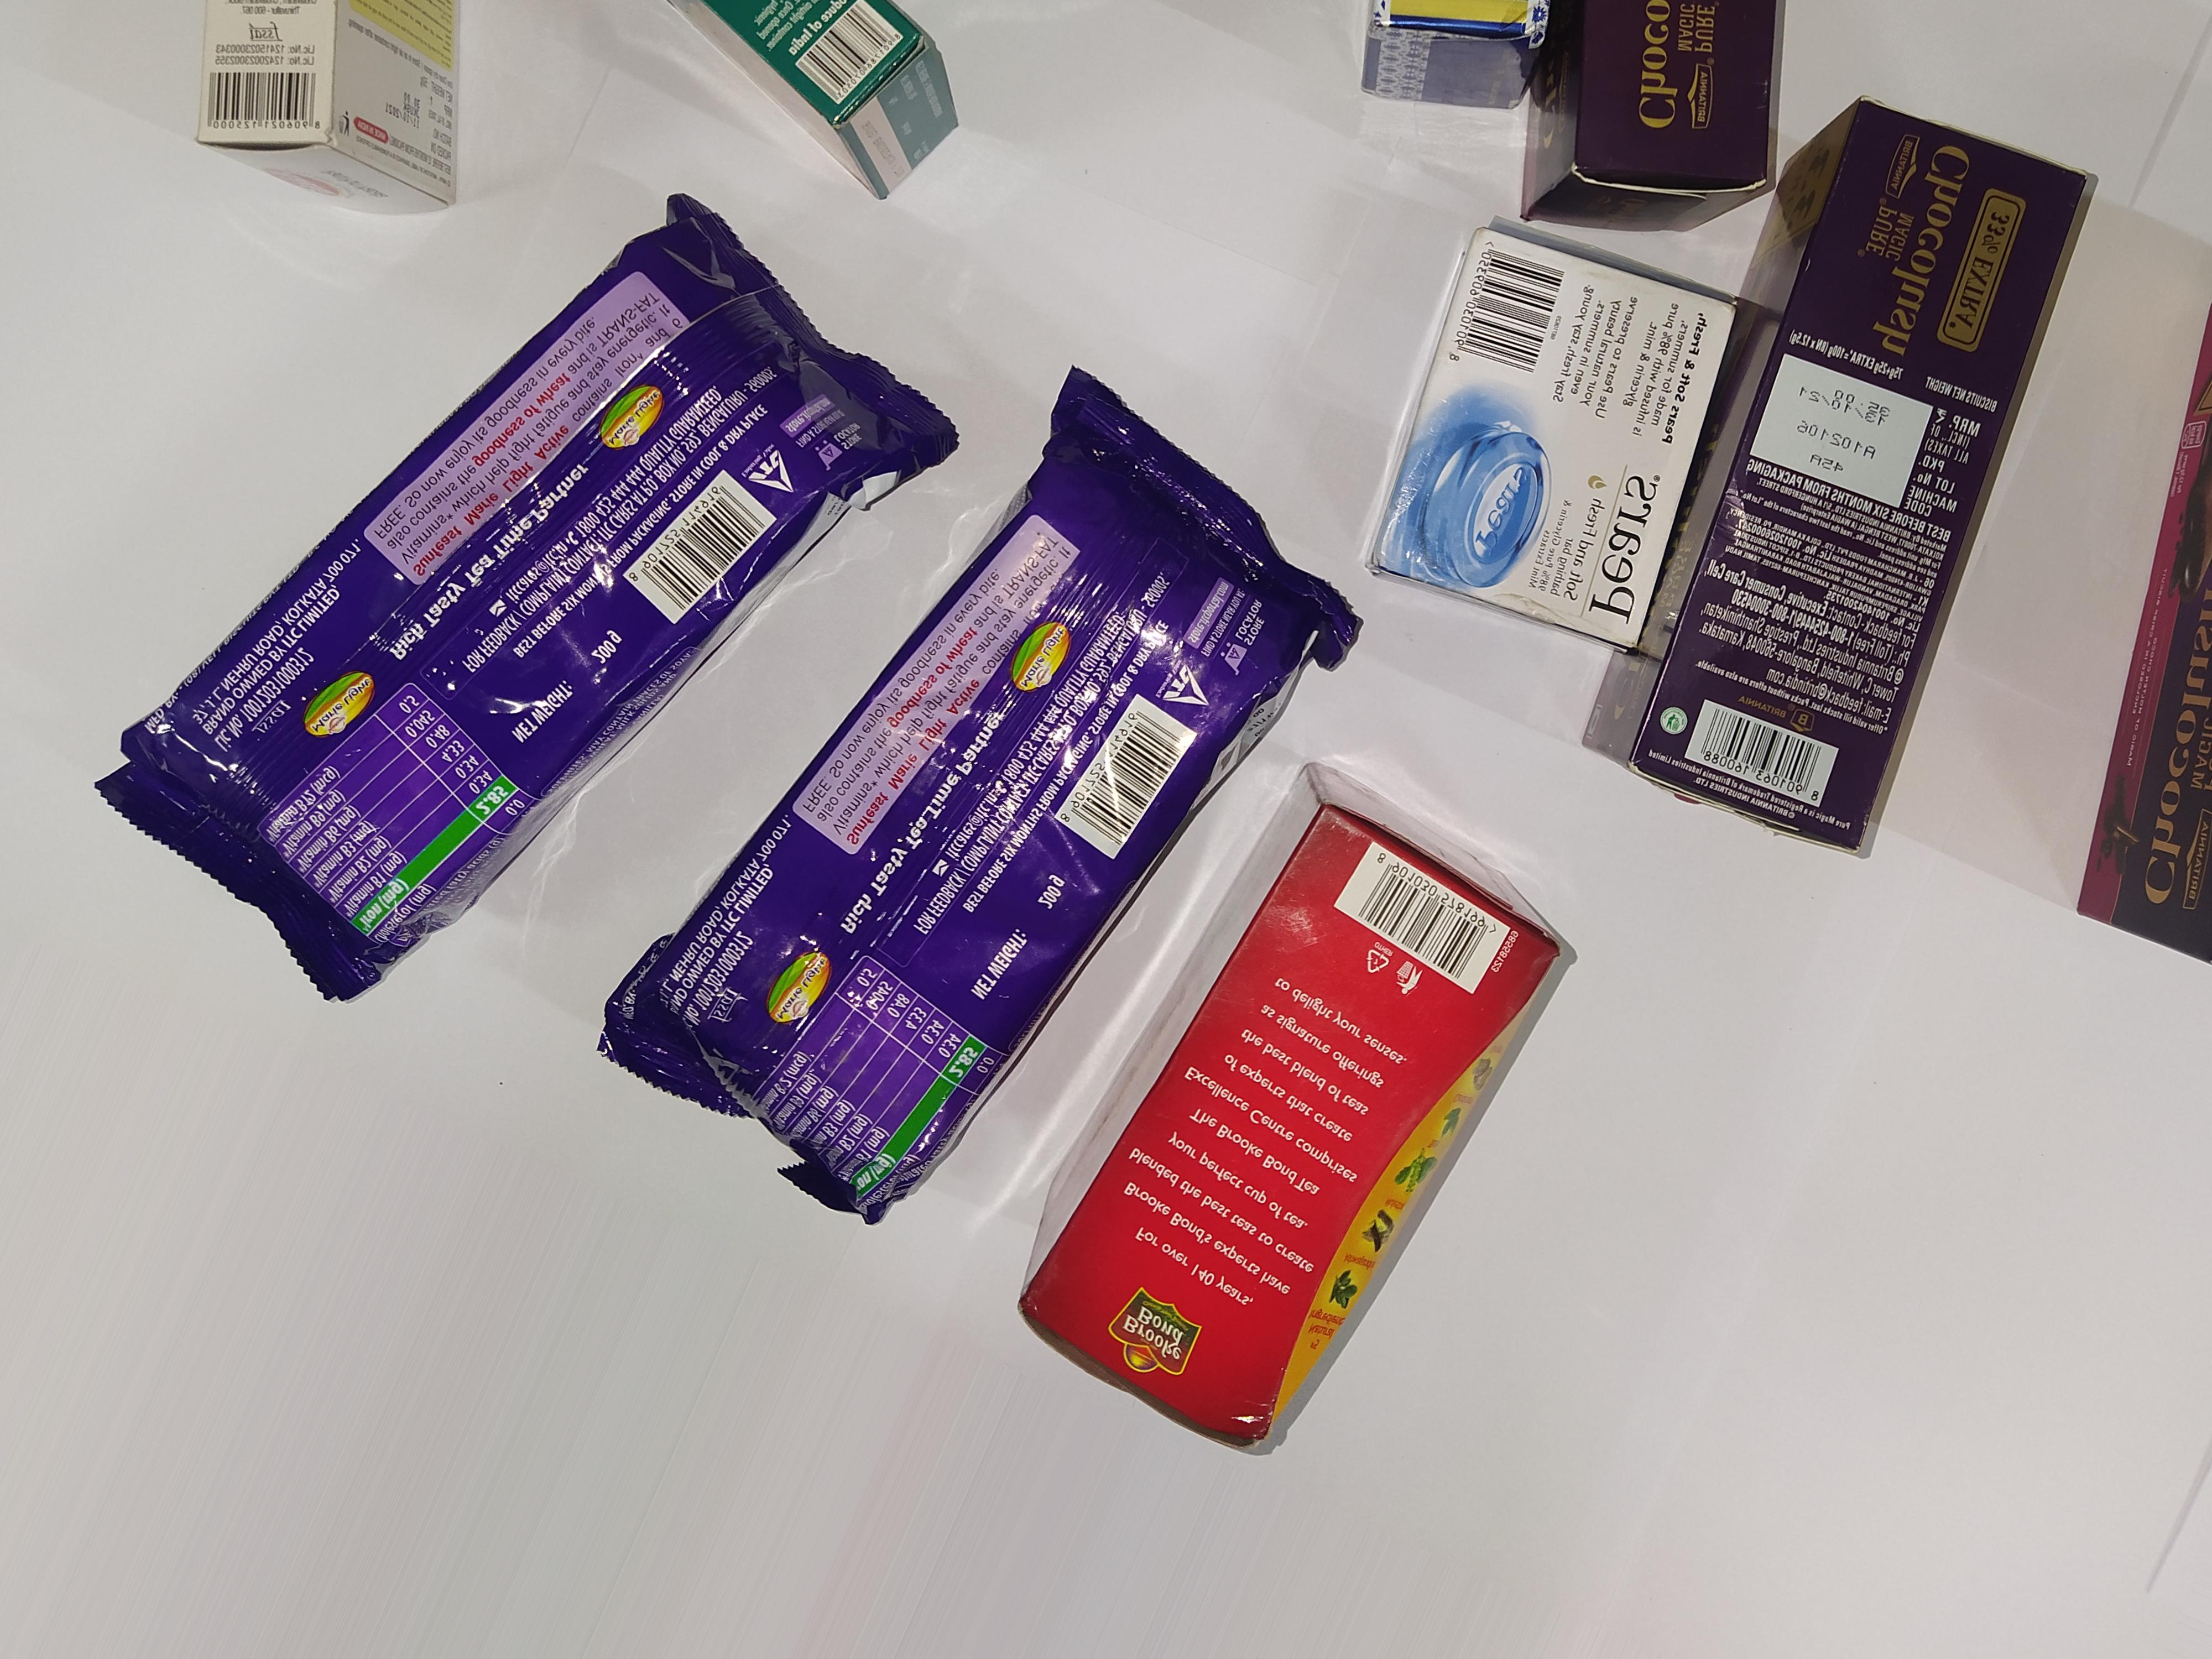Bar_code: (1315, 823, 1543, 1014), (1052, 702, 1216, 880), (622, 453, 780, 633), (1676, 687, 1853, 823), (1435, 221, 1575, 376), (780, 10, 925, 120), (193, 68, 345, 159)
Item: (77, 218, 916, 1012), (620, 420, 1315, 1232), (1031, 779, 1601, 1509), (1592, 122, 2099, 884), (1367, 211, 1714, 660), (2066, 270, 2203, 990), (625, 9, 1062, 209), (176, 10, 519, 253), (1554, 7, 1811, 253), (1338, 14, 1552, 118)
